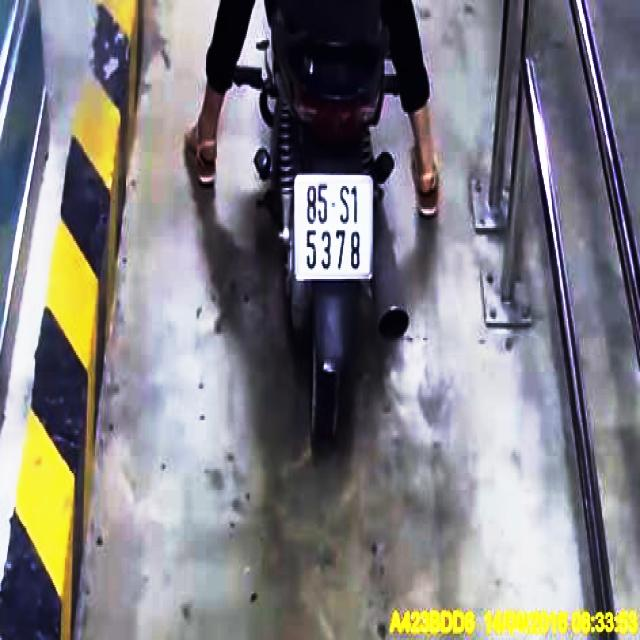license_plate: (295, 176, 375, 279)
